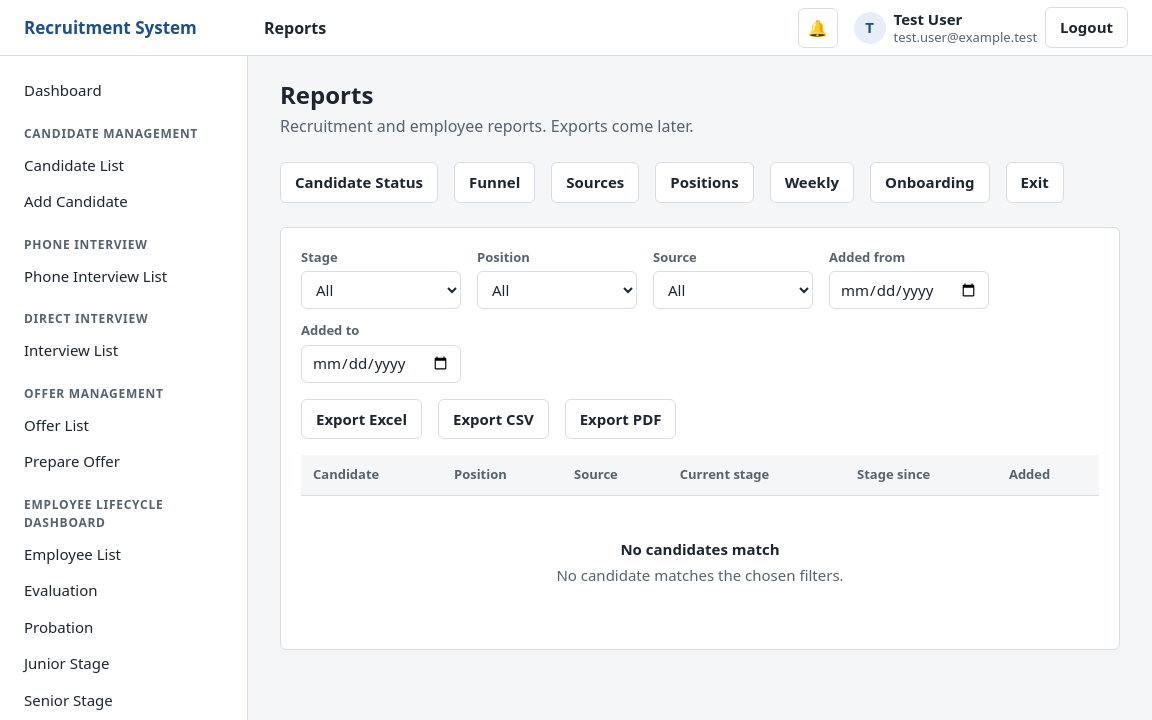
Test: reports page › an empty report shows its empty message, never fake rows
Expected: the text "No candidates match" is shown, [620,538,780,558]
Click the tab "Exit". click: x=1035, y=182
box: [1006,162,1064,202]
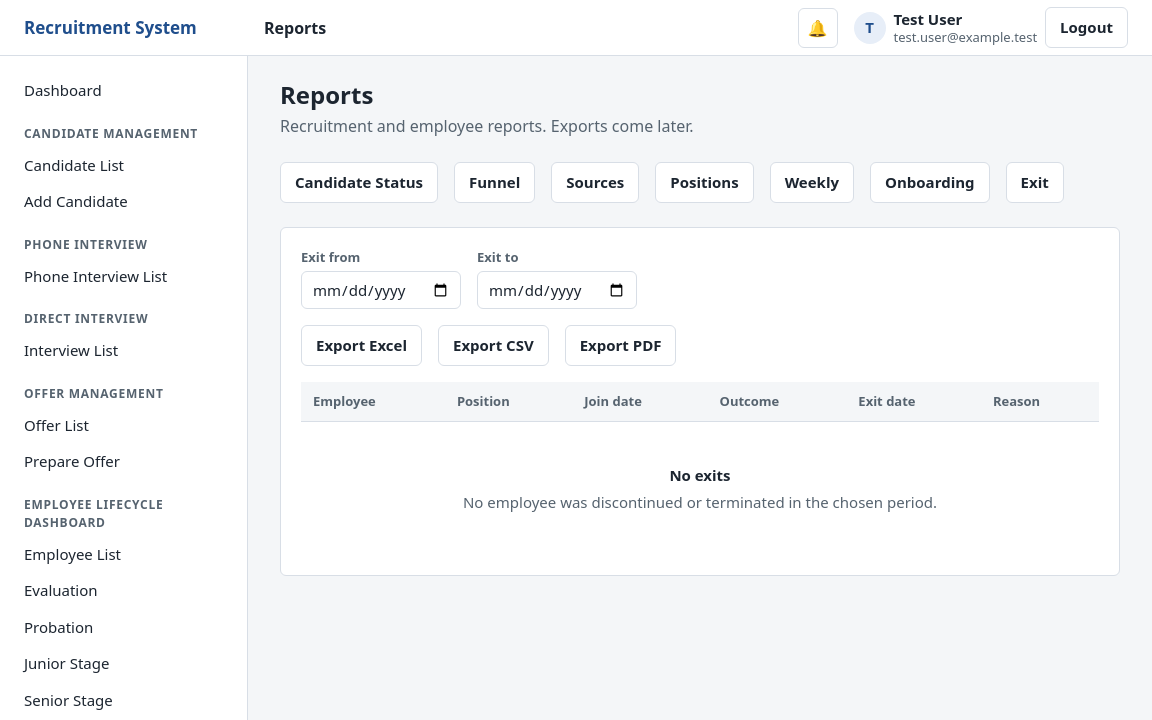
Expected: the text "No exits" is shown, [669,465,731,485]
